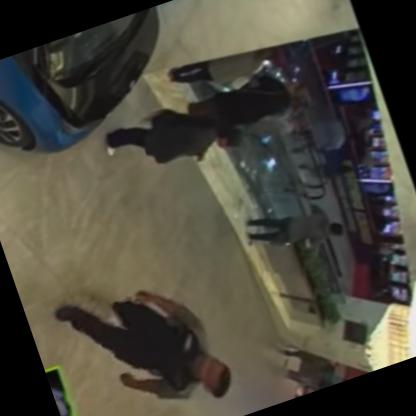Human Body: (48, 259, 242, 415), (98, 82, 256, 202), (235, 186, 354, 276), (192, 60, 316, 142), (162, 28, 289, 107)
